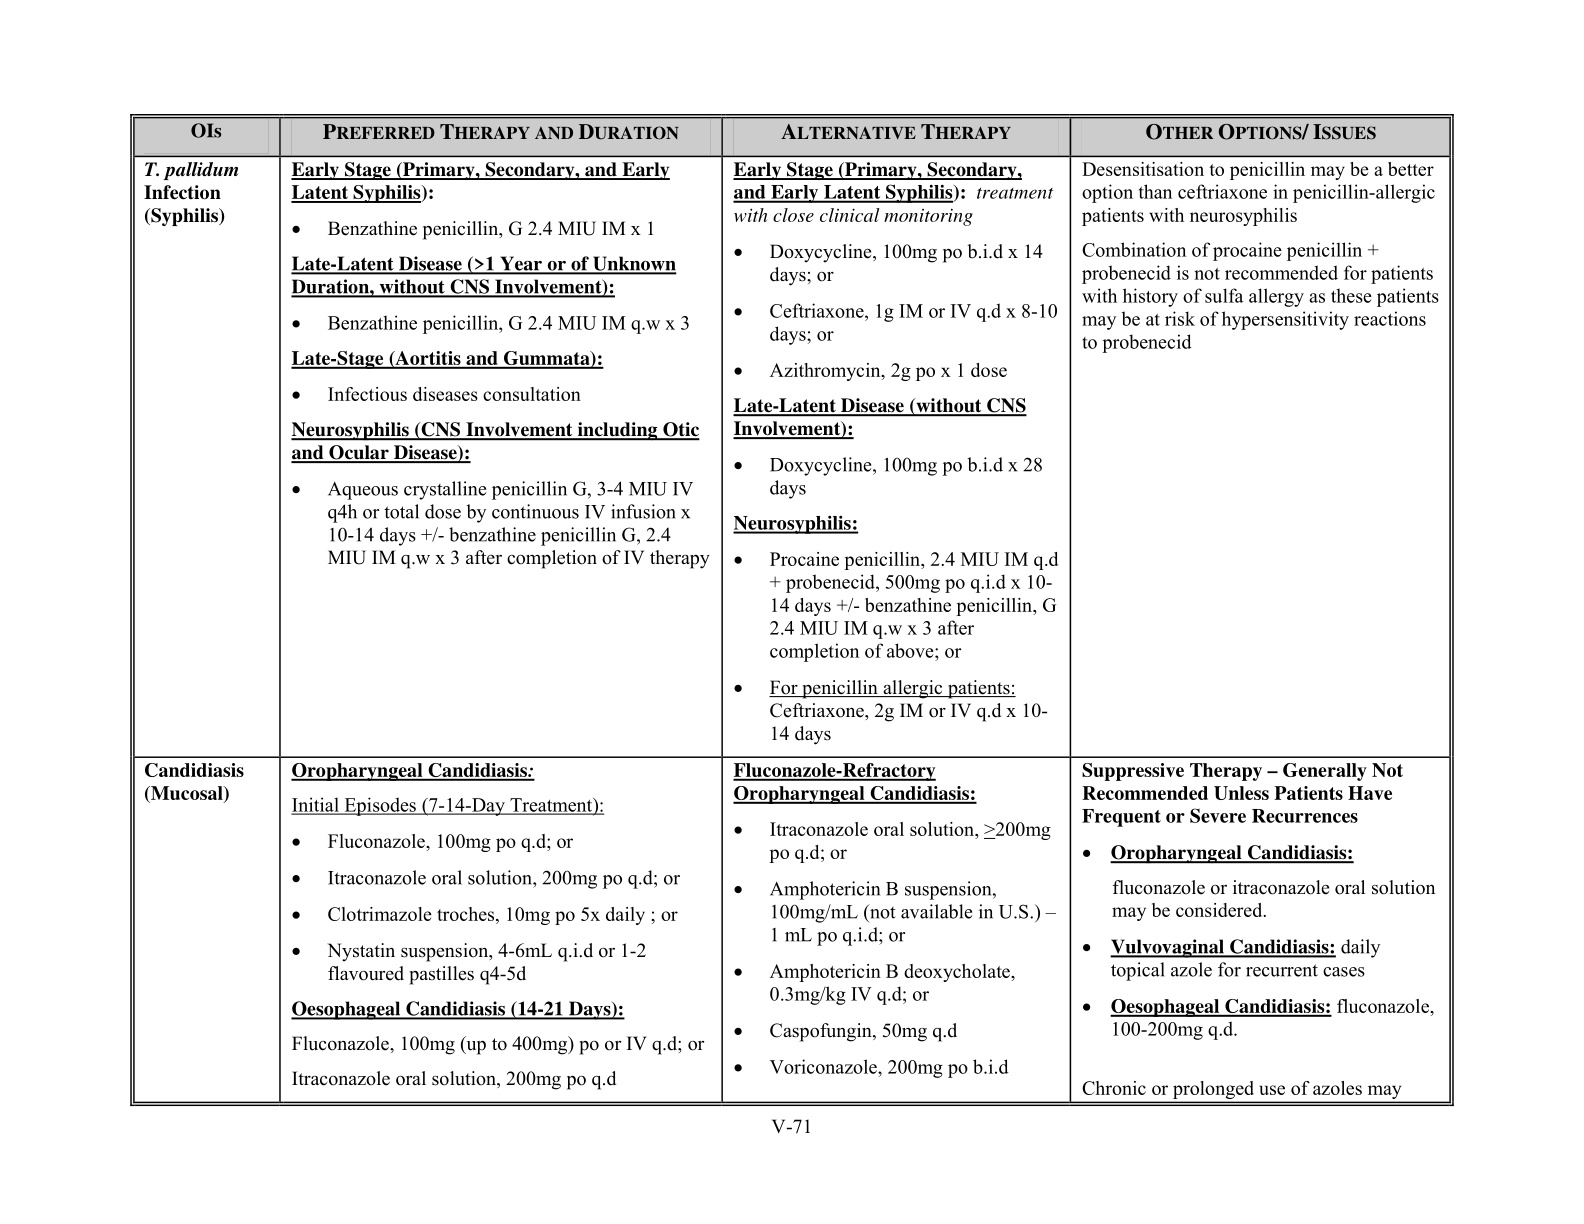full_lined: (129, 113, 1454, 1106)
